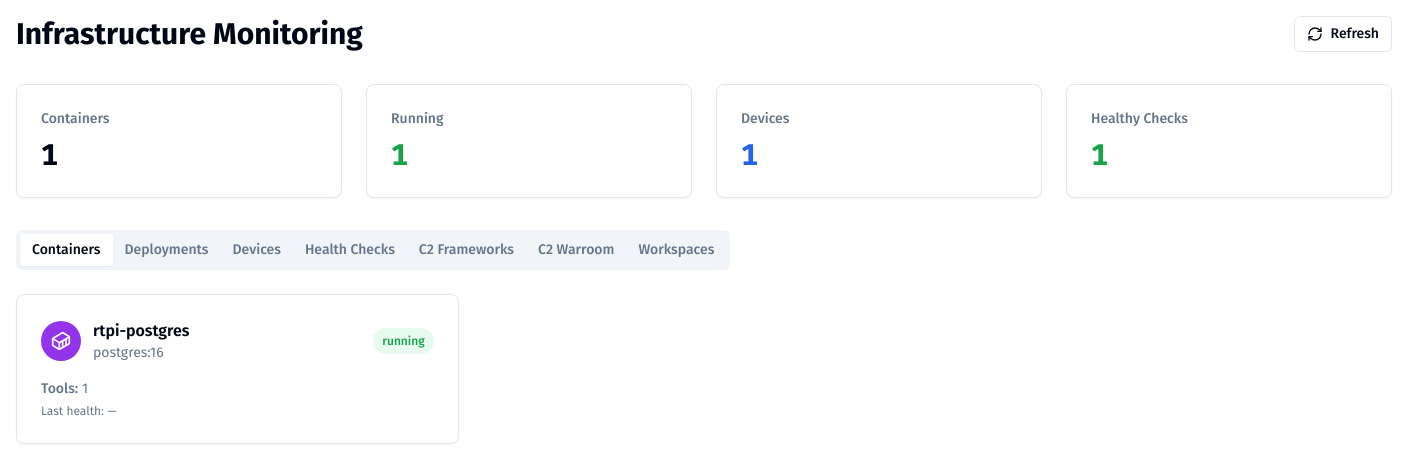
Test: Infrastructure Page › tab switching › should switch to Health Checks tab when clicked
Click the tab "Health Checks" at (350, 250), box [293,234,407,266]
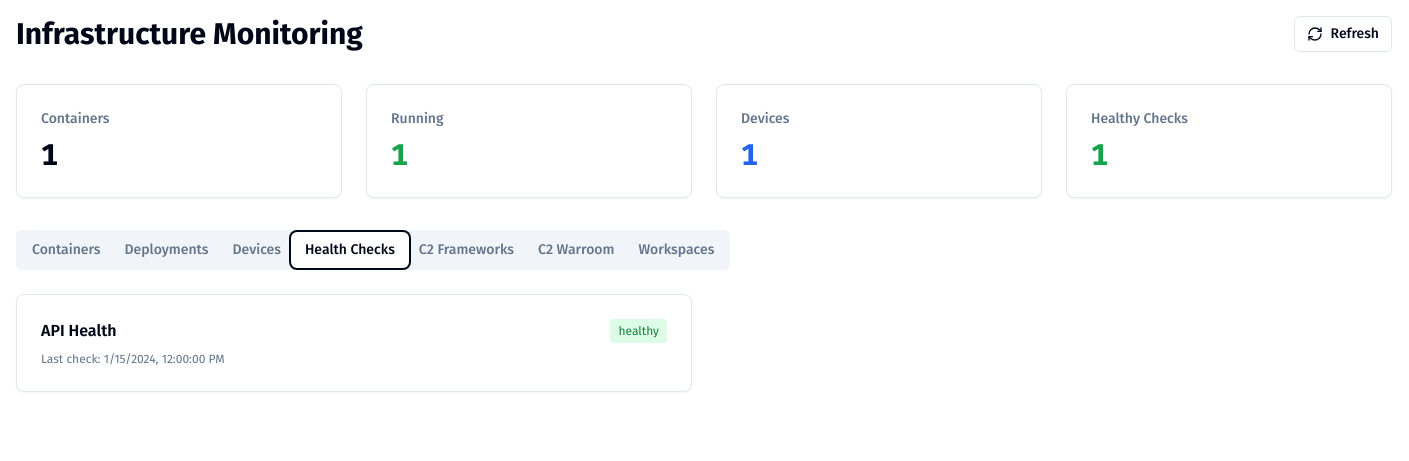
Now the heading "API Health" is shown, box [41,319,116,343]
